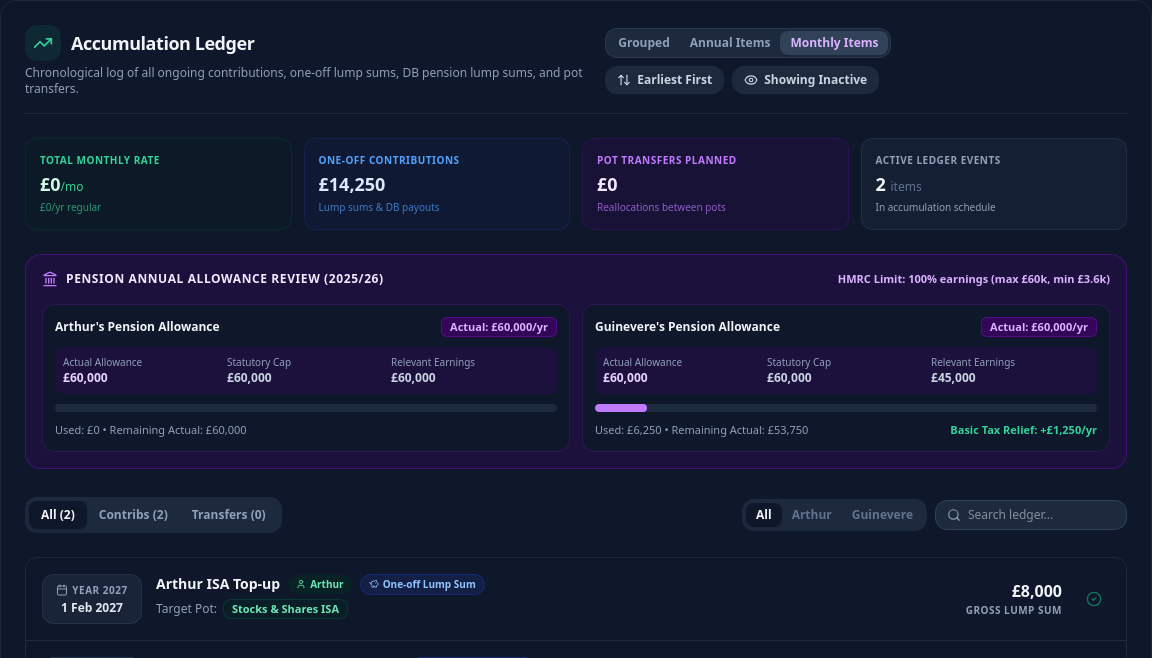
AccumulationLedgerCard Component › supports couple planning mode and owner filters
Expected: the text "Guinevere's Pension Allowance" is shown, [595, 319, 780, 335]
Filter by Arthur (Primary)
Click the button "Arthur" at (812, 515), box [782, 503, 842, 527]
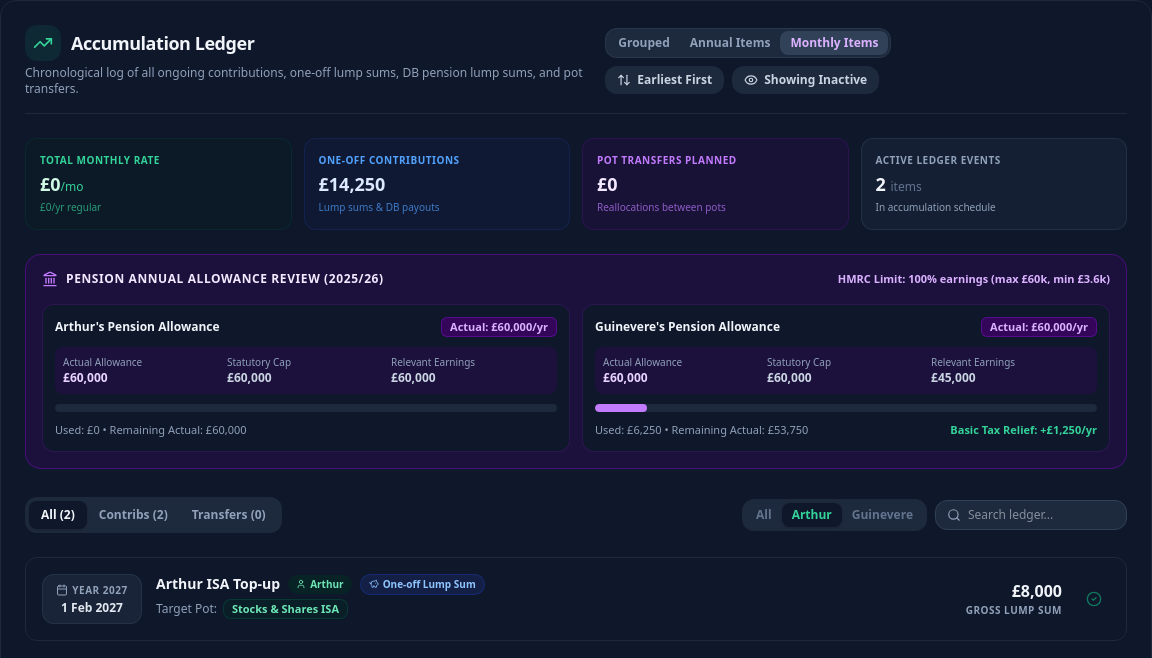
Expected: the text "Arthur ISA Top-up" is shown, [156, 574, 280, 594]
Filter by Guinevere (Partner)
Click the button "Guinevere" at (882, 515), box [842, 503, 923, 527]
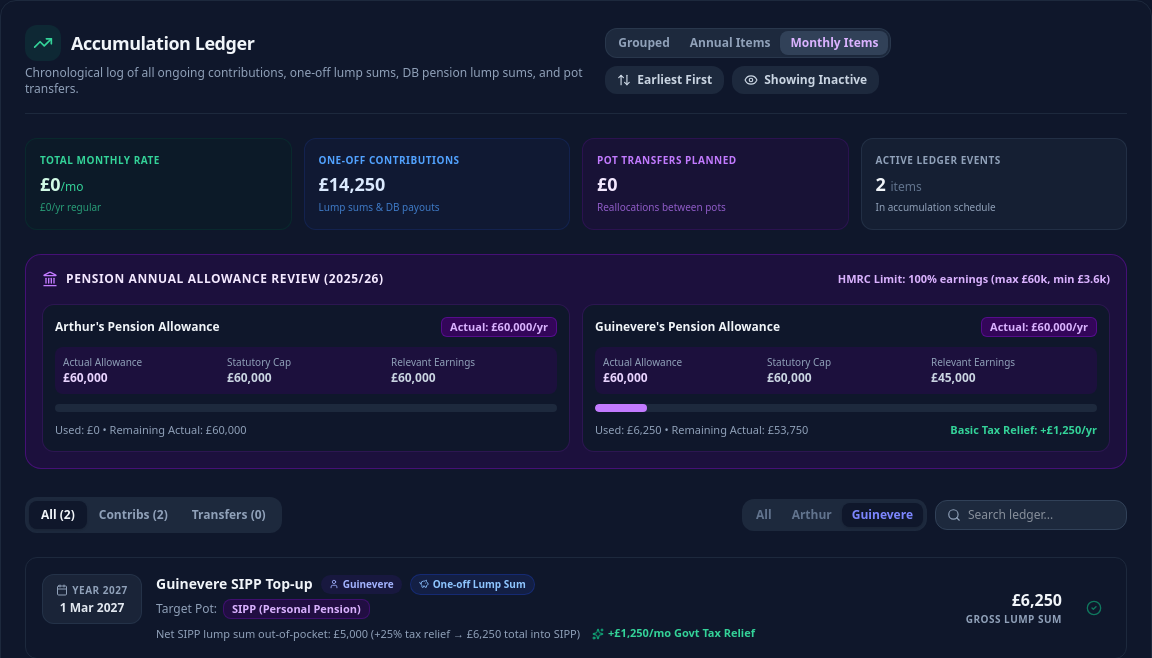
Expected: the text "Guinevere SIPP Top-up" is shown, [156, 574, 313, 594]
Expected: the text "Arthur ISA Top-up" is gone
